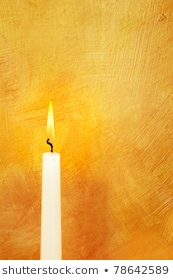Fire: (44, 98, 59, 143)
